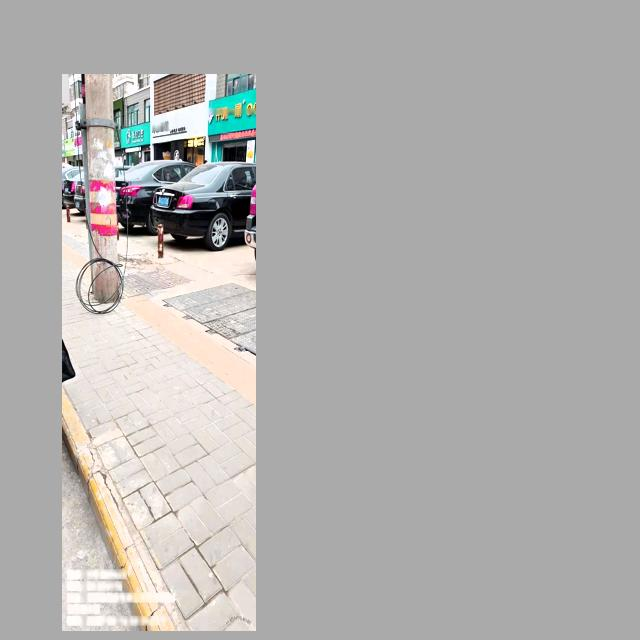good: (160, 280, 256, 361), (120, 266, 194, 299)
